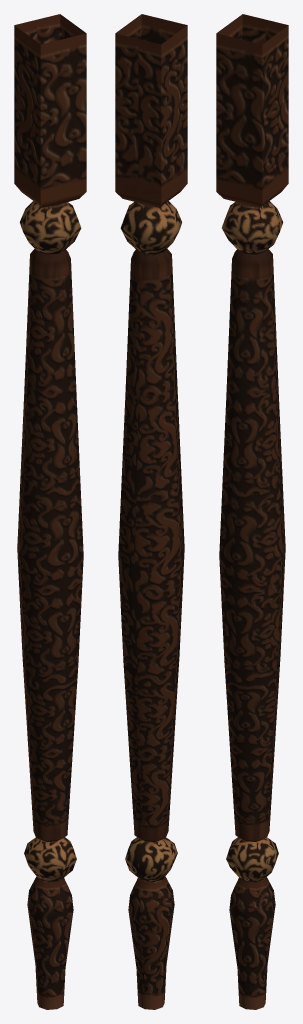
Rendered from Fancyleg_Long1.fbx.
3 views of the same model, side by side, from view 1: azimuth 30°, elevation 25°; view 2: azimuth 150°, elevation 25°; view 3: azimuth 330°, elevation 25° (orthographic).
Visible parts, largest first — view 1: FanceLeg_CarvedLook; view 2: FanceLeg_CarvedLook; view 3: FanceLeg_CarvedLook.
Boxes of the visible parts, x1,y1,x2,y2 form: FanceLeg_CarvedLook: (14, 14, 86, 1009); FanceLeg_CarvedLook: (115, 14, 187, 1009); FanceLeg_CarvedLook: (216, 14, 288, 1009).
Size of the model in its own units: 4.04 by 65.51 by 4.04.
